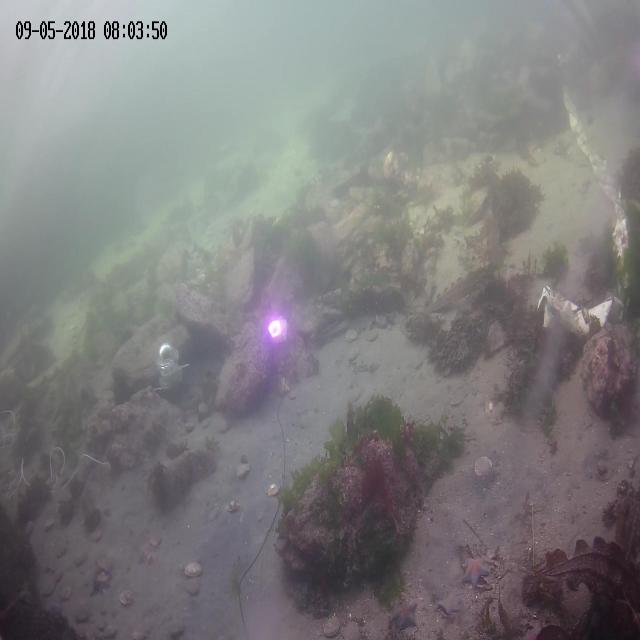scallop: (472, 452, 494, 478), (341, 615, 360, 640), (322, 619, 338, 638), (183, 561, 201, 577), (344, 324, 358, 342), (267, 481, 280, 500), (226, 499, 240, 516), (119, 589, 131, 607), (236, 458, 248, 475)
starfish: (464, 552, 491, 590), (388, 597, 414, 627), (437, 587, 463, 617)
